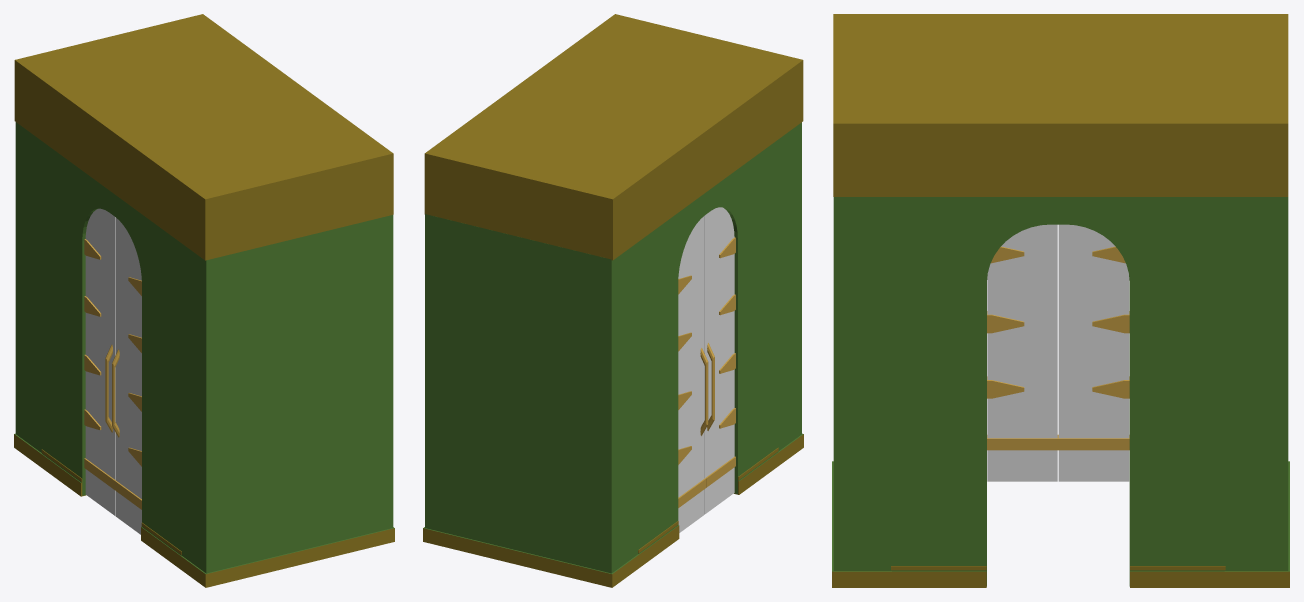
The model's file is Door.fbx.
The picture shows the model from 3 angles, left to right: view 1: azimuth 30°, elevation 25°; view 2: azimuth 150°, elevation 25°; view 3: azimuth 270°, elevation 25°; orthographic projection. The views are drawn at different scales.
Visible parts, largest first — view 1: wall, shell, leftDoor, rightDooor; view 2: wall, shell, rightDooor, leftDoor; view 3: wall, shell, leftDoor, rightDooor.
Part boxes in pixels (box(x1,y1,x2,y2)): wall: box(14, 122, 394, 587); shell: box(14, 14, 393, 260); leftDoor: box(84, 208, 115, 515); rightDooor: box(112, 217, 141, 534); wall: box(423, 122, 803, 587); shell: box(424, 14, 803, 260); rightDooor: box(704, 207, 735, 513); leftDoor: box(678, 216, 708, 532); wall: box(832, 197, 1289, 587); shell: box(833, 14, 1288, 196); leftDoor: box(1058, 224, 1129, 481); rightDooor: box(987, 224, 1058, 481).
Size of the model in its own units: 1294 by 2510 by 2246.
